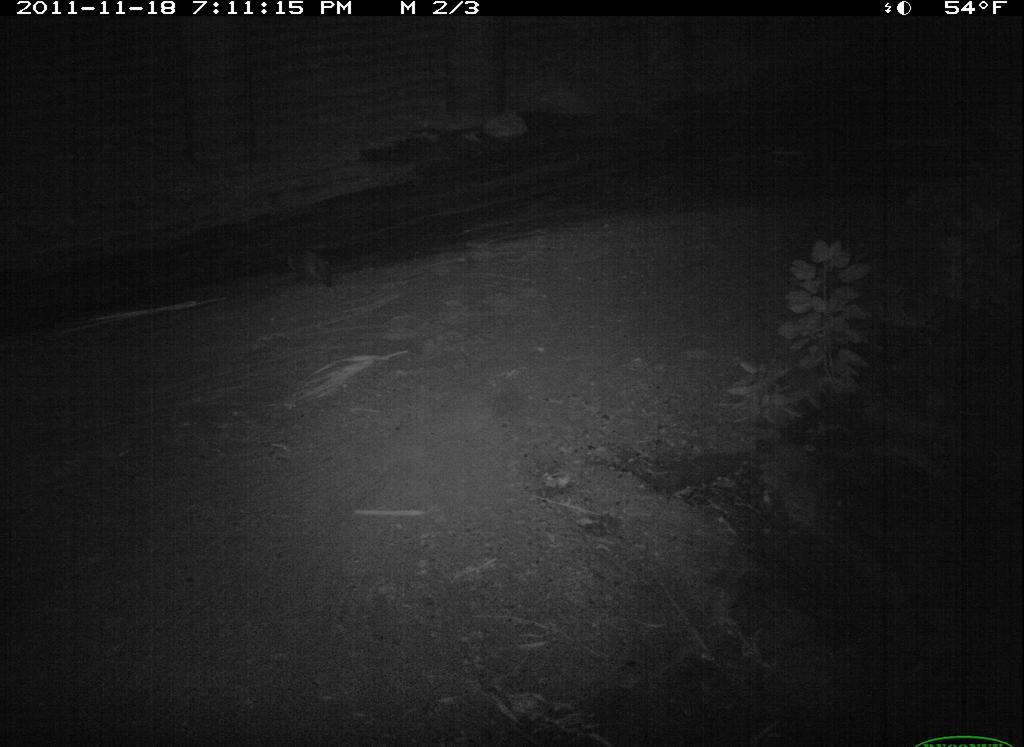opossum: (267, 240, 369, 312)
